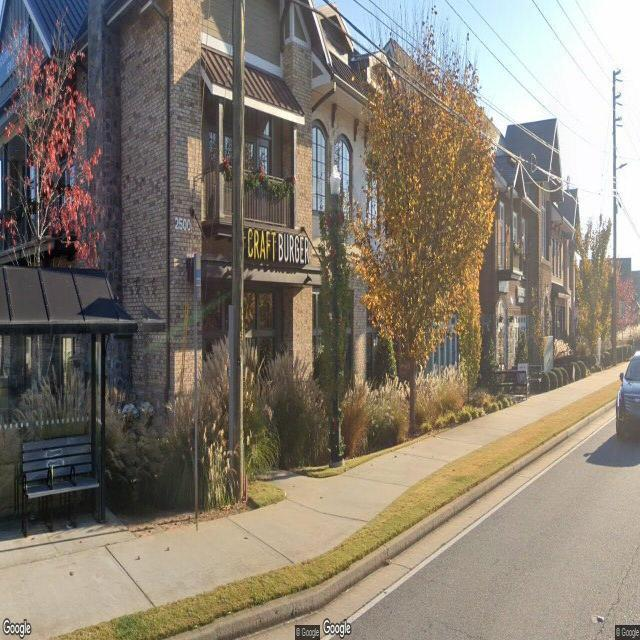seating: (23, 435, 100, 538), (494, 369, 530, 400), (512, 365, 542, 392)
shelter: (0, 261, 138, 537)
